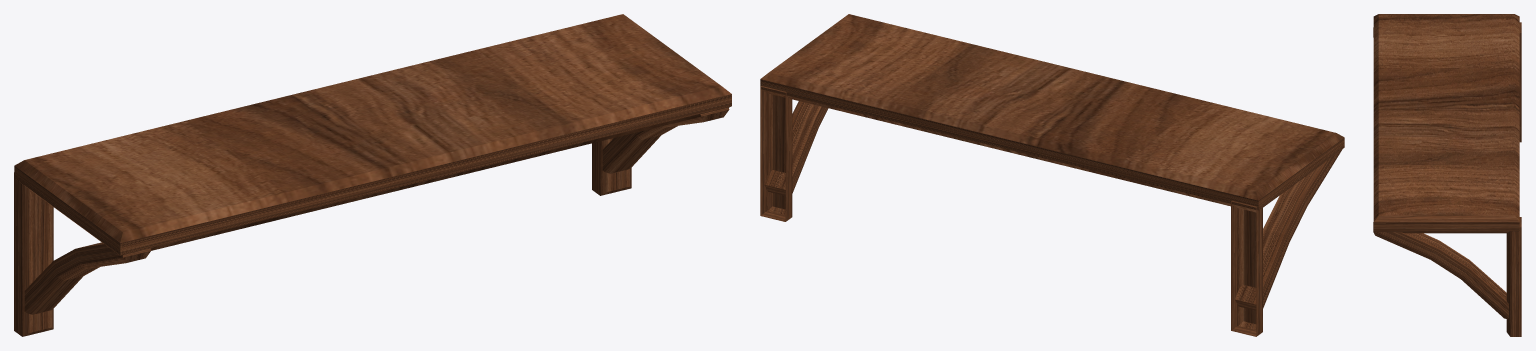
Rendered from PROP_prateleira.glb.
3 renders of one model, left to right at view 1: azimuth 30°, elevation 25°; view 2: azimuth 150°, elevation 25°; view 3: azimuth 270°, elevation 25°, orthographic. The views are drawn at different scales.
Parts seen in each view (by area): view 1: Cube.010, Cube.011, Cube.012; view 2: Cube.010, Cube.011, Cube.012; view 3: Cube.010, Cube.012, Cube.011.
Boxes of the visible parts, bbox=[...] form: Cube.010: bbox=[14, 14, 731, 256]; Cube.011: bbox=[14, 138, 631, 336]; Cube.012: bbox=[24, 107, 729, 314]; Cube.010: bbox=[760, 14, 1344, 212]; Cube.011: bbox=[760, 86, 1262, 336]; Cube.012: bbox=[764, 101, 1341, 310]; Cube.010: bbox=[1373, 14, 1519, 233]; Cube.012: bbox=[1373, 27, 1508, 319]; Cube.011: bbox=[1506, 22, 1521, 336].
Bounding box in the file's own units: 1 × 0.2708 × 0.3046.
Materials: 1 (1 with a texture image).
